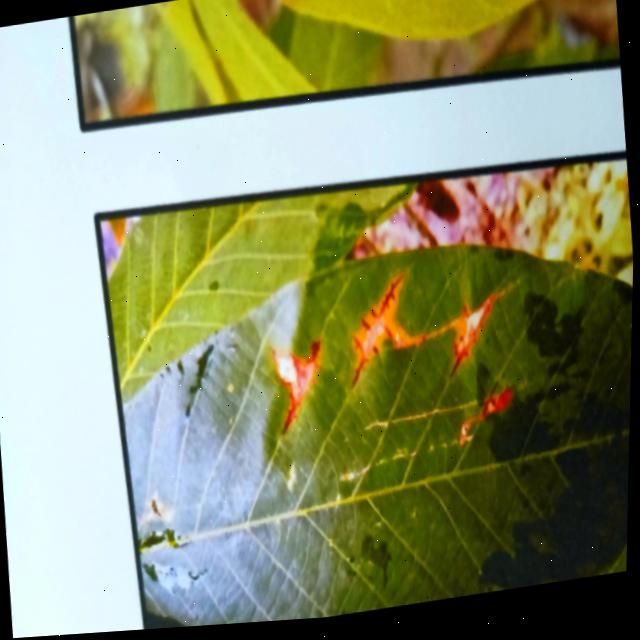Corynespora: (344, 277, 417, 395), (283, 396, 305, 438)
Leaf-Blight: (277, 348, 320, 408)
